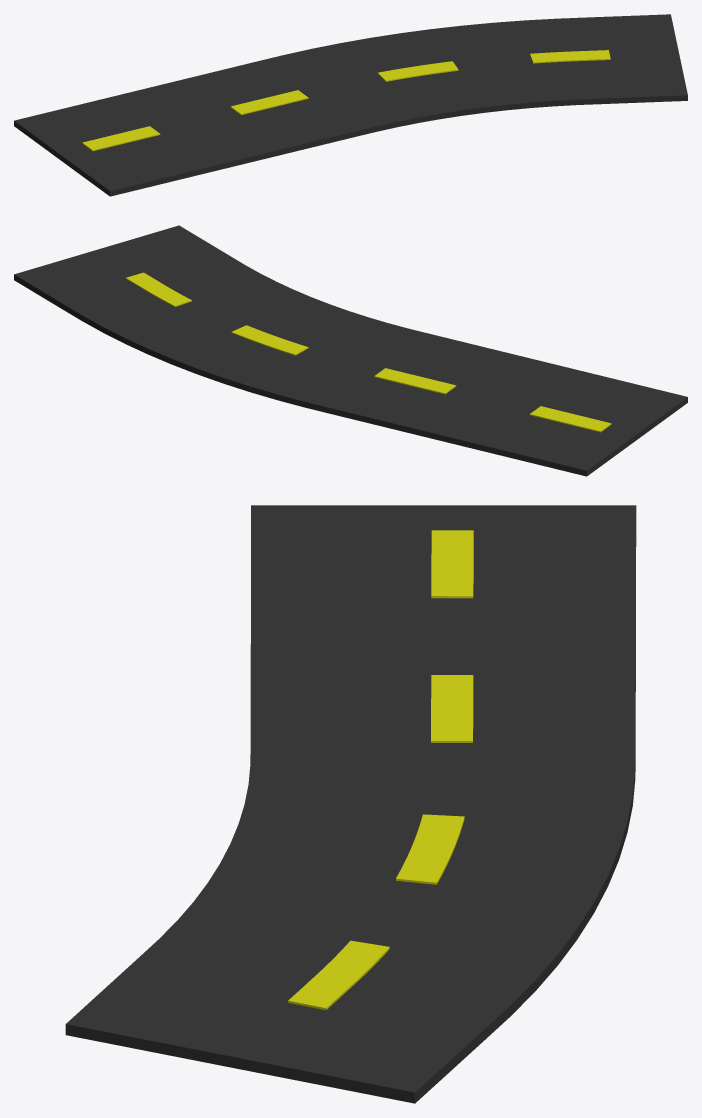
Rendered from road15.fbx.
3 renders of one model, top to bottom at view 1: azimuth 30°, elevation 25°; view 2: azimuth 150°, elevation 25°; view 3: azimuth 270°, elevation 25°, orthographic. The views are drawn at different scales.
Visible parts, largest first — view 1: box005; view 2: box005; view 3: box005.
Boxes of the visible parts, x1=… form: box005: x1=14, y1=14, x2=687, y2=196; box005: x1=14, y1=225, x2=687, y2=476; box005: x1=65, y1=505, x2=636, y2=1103.
Size of the model in its own units: 351 by 4.27 by 144.
